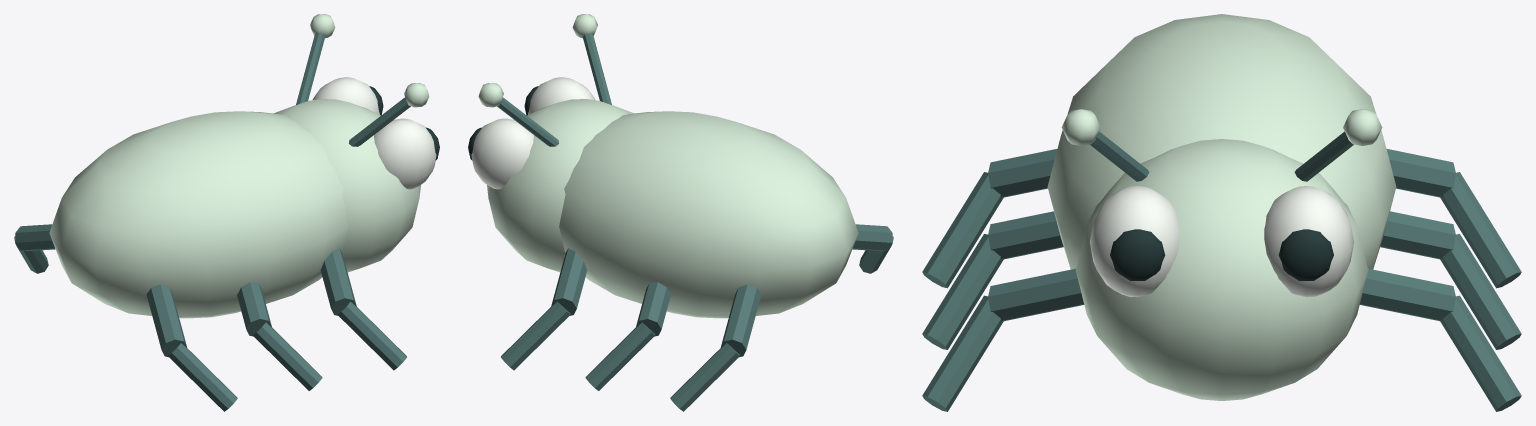
File: creature.glb
3 views of the same model, side by side, from view 1: azimuth 30°, elevation 25°; view 2: azimuth 150°, elevation 25°; view 3: azimuth 270°, elevation 25° (orthographic). The views are drawn at different scales.
Parts seen in each view (by area): view 1: Body, Legs, Eye; view 2: Body, Legs, Eye; view 3: Body, Legs, Eye, Pupil.
Boxes of the visible parts, box(x1,y1,x2,y2) form: Body: box(49, 14, 429, 318); Legs: box(14, 33, 410, 411); Eye: box(312, 77, 436, 189); Body: box(478, 14, 858, 318); Legs: box(497, 33, 893, 411); Eye: box(471, 77, 595, 189); Body: box(1047, 14, 1396, 400); Legs: box(922, 131, 1521, 411); Eye: box(1089, 186, 1354, 297); Pupil: box(1110, 229, 1333, 280).
Size of the model in its own units: 1.07 by 0.6898 by 1.07.
